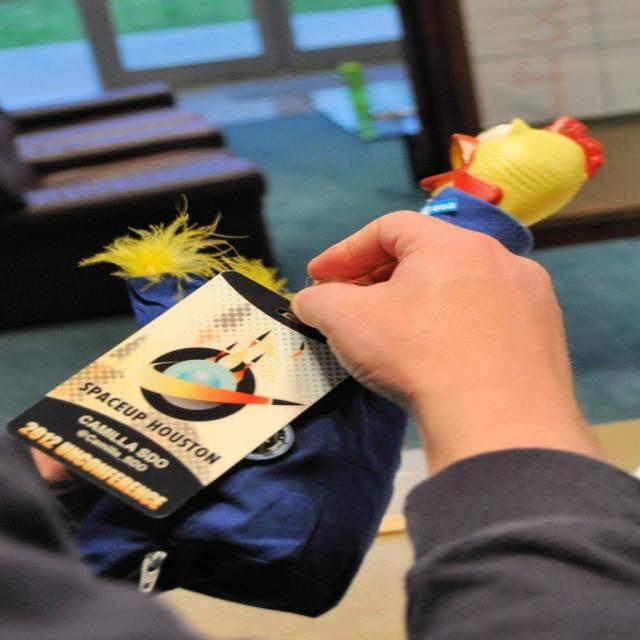Toy: (432, 112, 618, 251)
